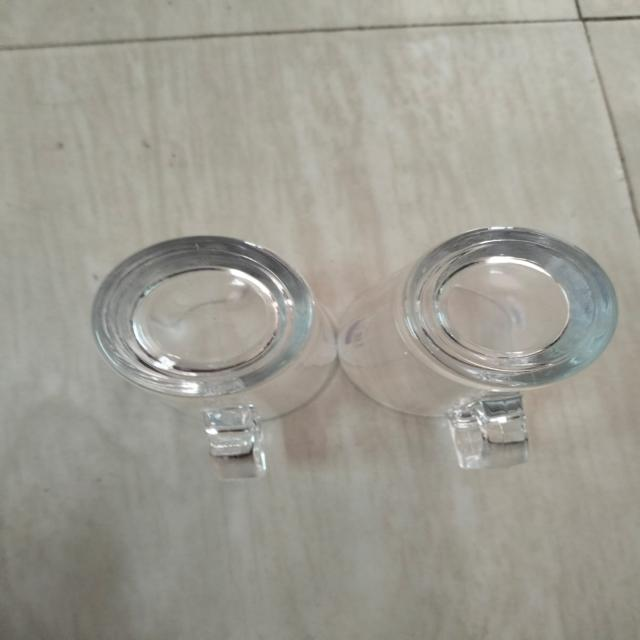glass-VX4N: (360, 223, 640, 473), (82, 227, 346, 468)
